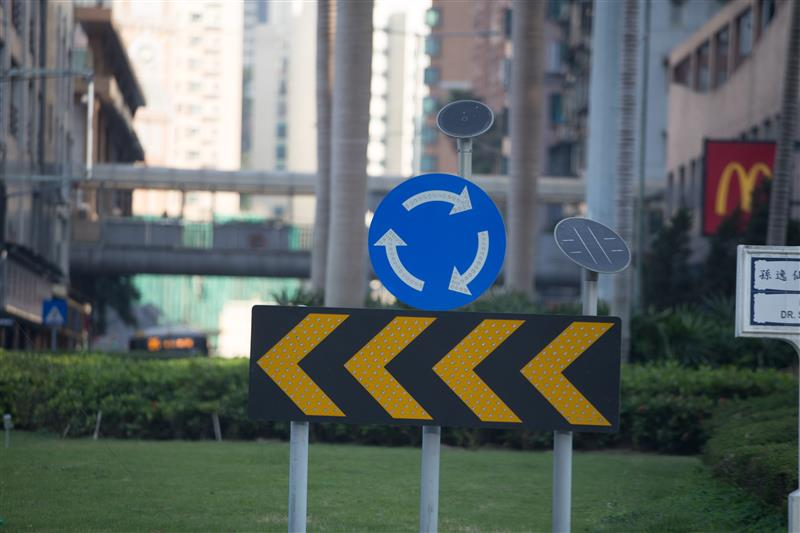roundabout: (366, 171, 507, 307)
